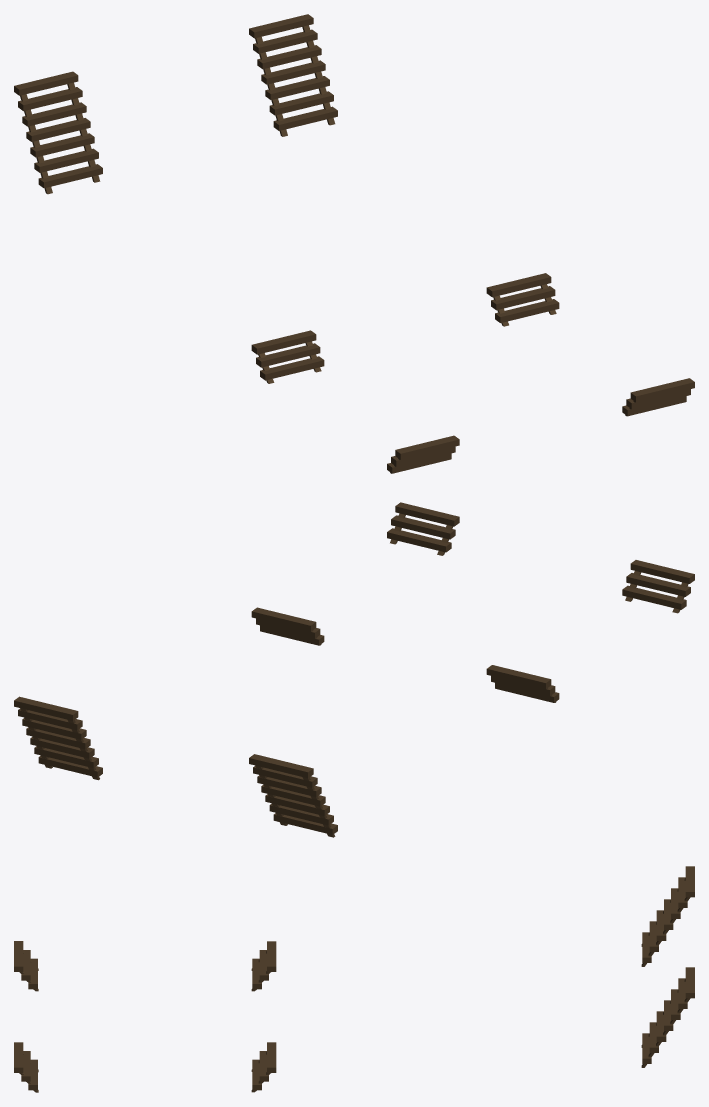
The model's file is Escalier.fbx.
3 views of the same model, one above another, from view 1: azimuth 30°, elevation 25°; view 2: azimuth 150°, elevation 25°; view 3: azimuth 270°, elevation 25° (orthographic). The views are drawn at different scales.
Visible parts, largest first — view 1: EscalierArriere, EscalierMilieu, EscalierAvant; view 2: EscalierArriere, EscalierAvant, EscalierMilieu; view 3: EscalierArriere, EscalierMilieu, EscalierAvant.
Part boxes in pixels (x1,y1,x2,y2): EscalierArriere: (14,14,337,194); EscalierMilieu: (251,273,559,383); EscalierAvant: (387,378,694,473); EscalierArriere: (14,696,337,837); EscalierAvant: (387,502,694,613); EscalierMilieu: (251,607,559,702); EscalierArriere: (641,866,694,1067); EscalierMilieu: (251,941,276,1092); EscalierAvant: (14,941,38,1092).
Size of the model in its own units: 1583 by 589 by 3602.
